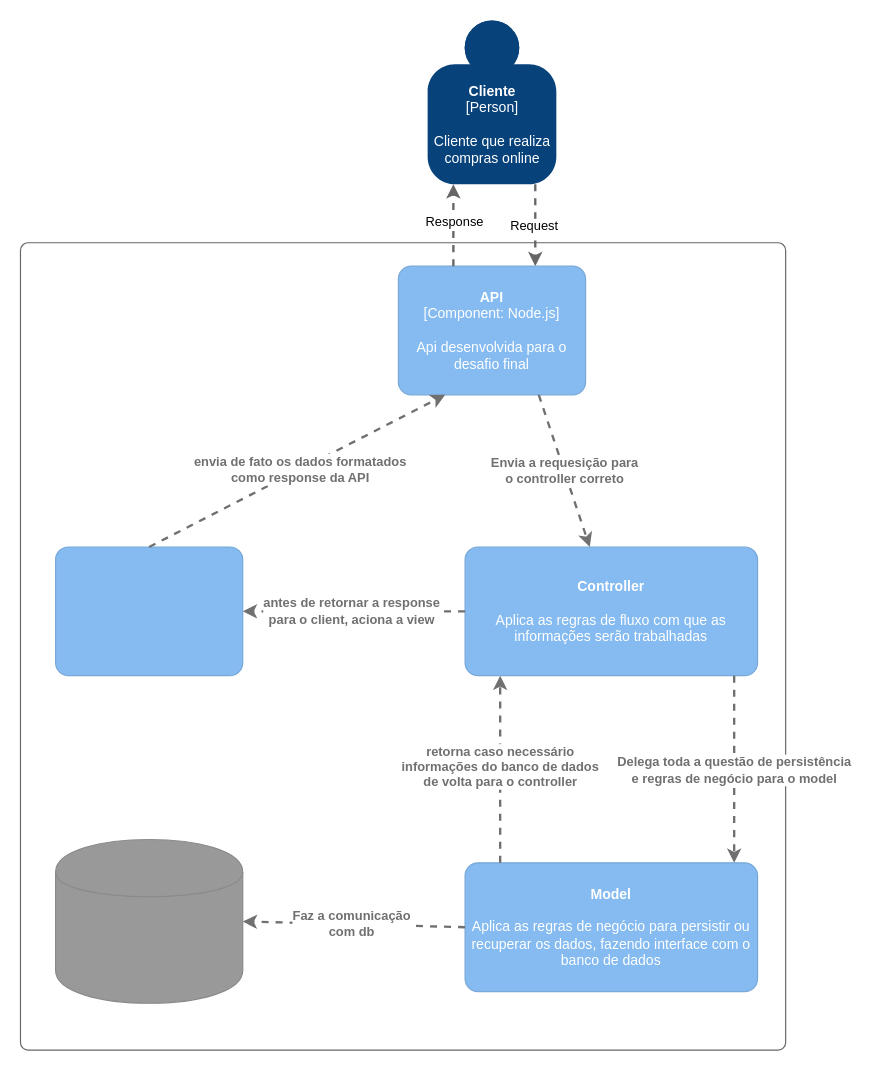
Image size: 872x1071. Some labels were removed from this diagram. The shapes that lost their labels are listed below. From the top down, each one's centre as x and y in pixels, then its label:
[148,611]: View Realiza o tratamento das informações que serão retornadas para o cliente
[148,920]: Database [Postgres]
